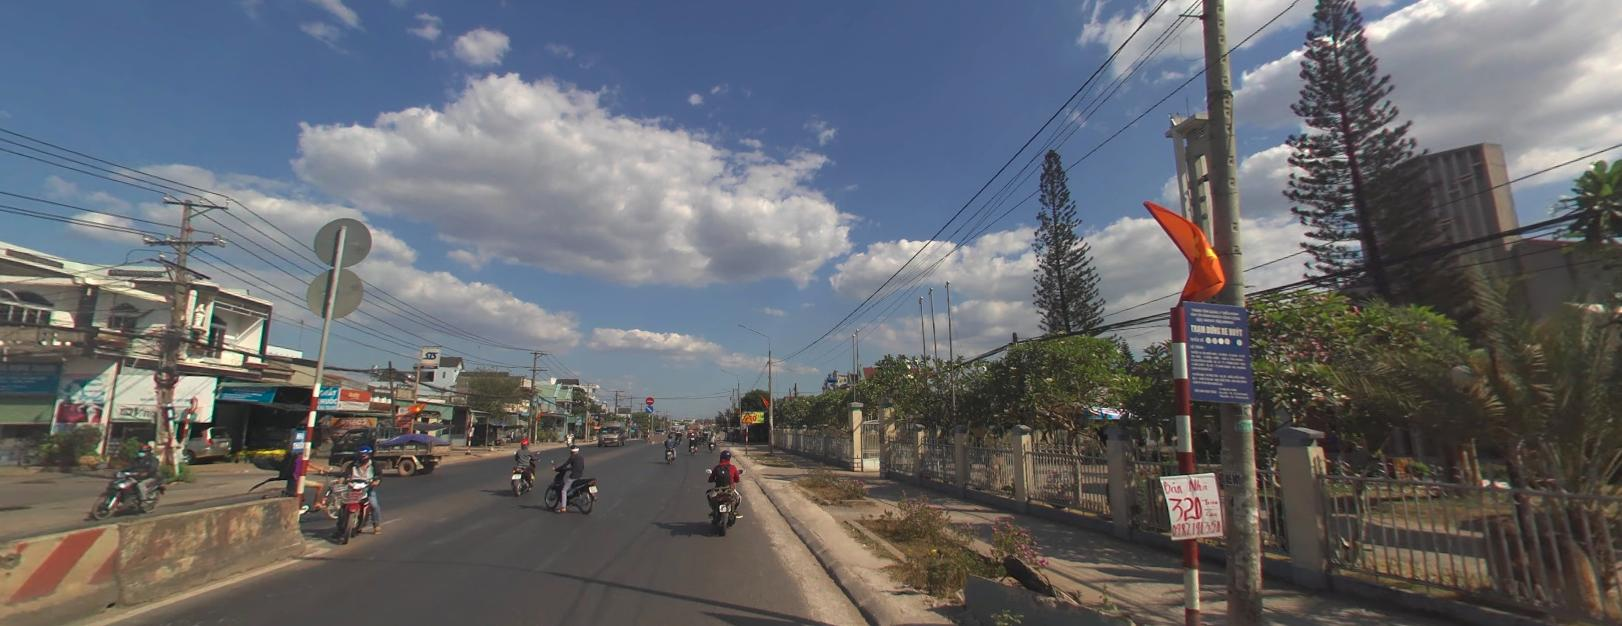Cam nguoc chieu: (645, 394, 653, 403)
Hieu lenh: (644, 404, 652, 411)
Nguy hiem: (740, 411, 752, 422)
